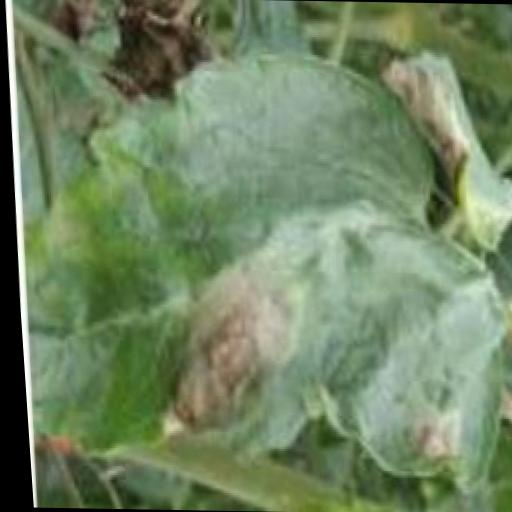Late Blight: (6, 48, 512, 491)
